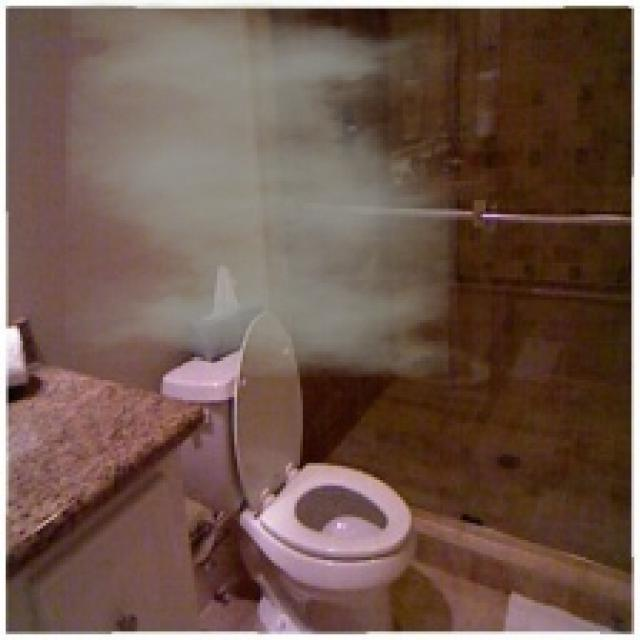Smoke: (66, 0, 457, 377)
